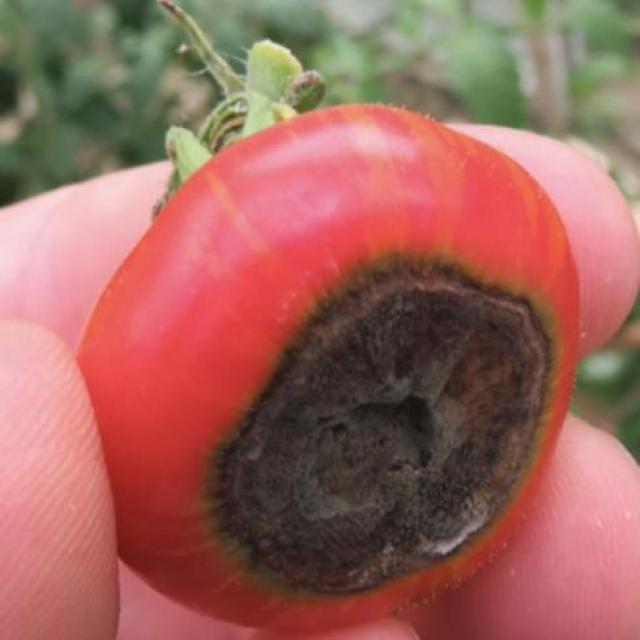Blossom End Rot Fruit: (126, 160, 370, 391)
